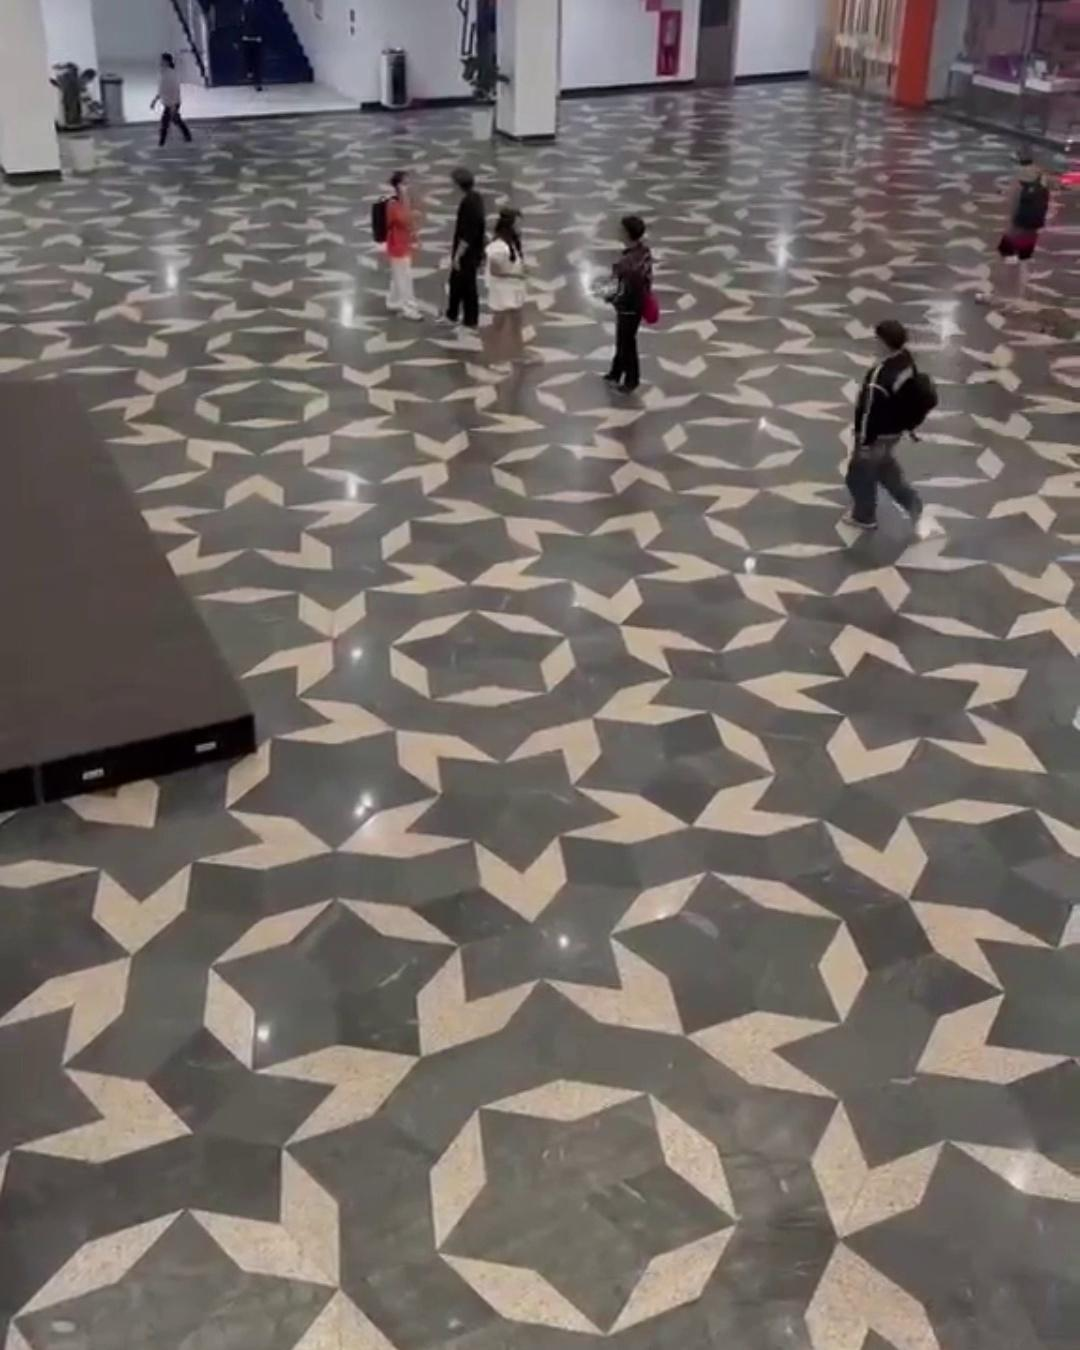your_class: (842, 293, 955, 555), (587, 193, 696, 406), (965, 128, 1066, 322), (410, 161, 500, 333), (477, 198, 538, 387), (360, 163, 426, 335), (134, 33, 208, 159), (230, 3, 284, 97)
